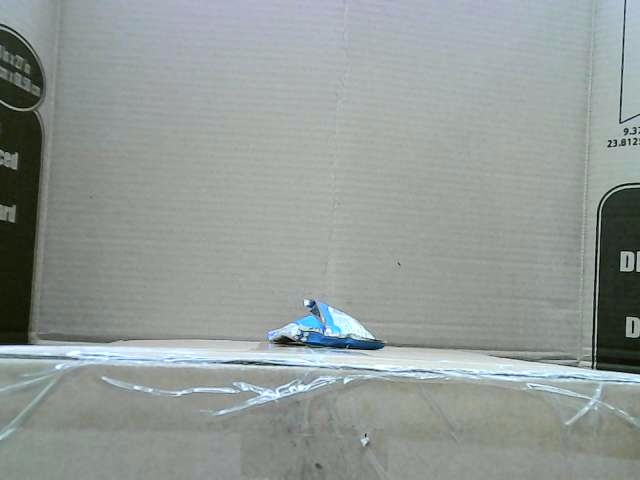CandyWrapper: (267, 298, 386, 350)
